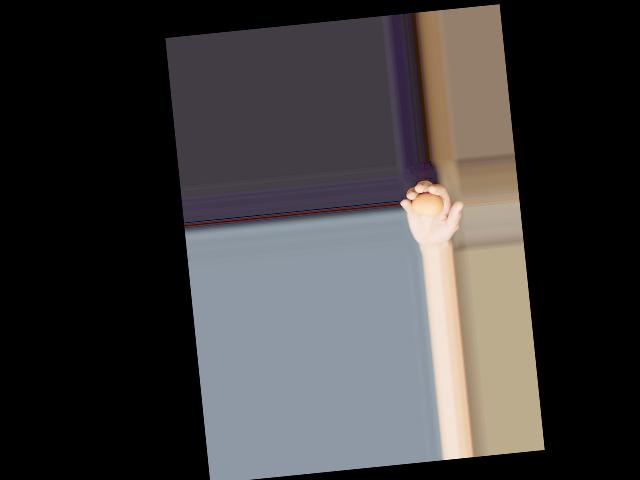egg: (410, 192, 444, 218)
